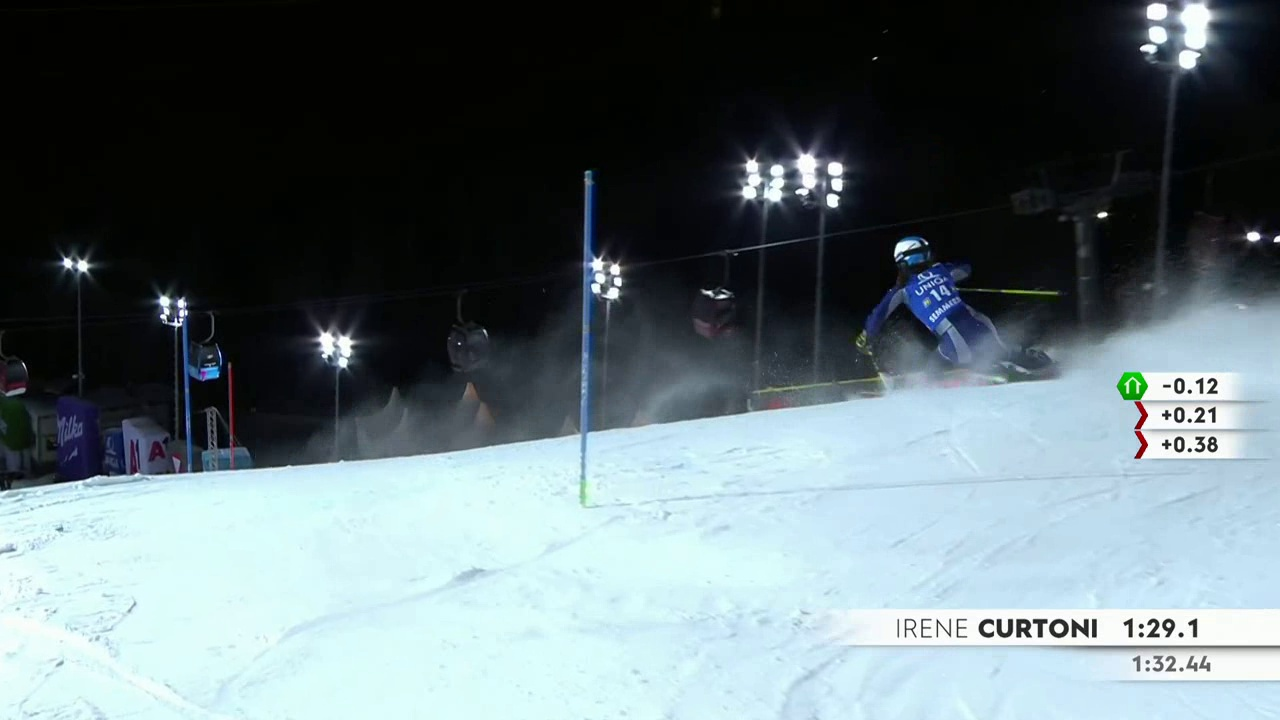a1: (124, 432, 143, 480), (147, 434, 172, 470)
uniqa: (104, 430, 126, 479)
